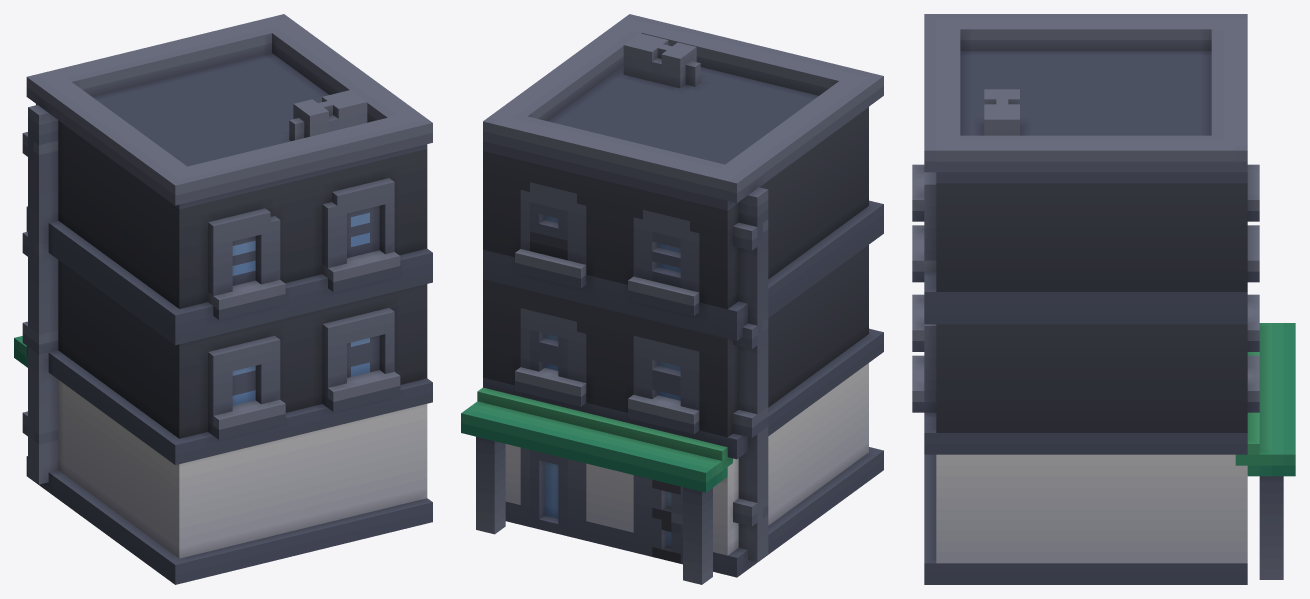
The model's file is building_h.glb.
3 views of the same model, side by side, from view 1: azimuth 30°, elevation 25°; view 2: azimuth 150°, elevation 25°; view 3: azimuth 270°, elevation 25° (orthographic). The views are drawn at different scales.
Visible parts, largest first — view 1: voxels; view 2: voxels; view 3: voxels.
Boxes of the visible parts, x1,y1,x2,y2 form: voxels: (14, 14, 432, 584); voxels: (461, 14, 883, 584); voxels: (912, 14, 1295, 584).
Bounding box in the file's own units: 0.9051 × 1.33 × 1.03.
